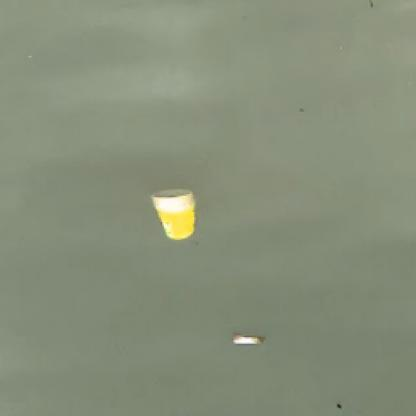Plastic: (151, 188, 197, 240)
